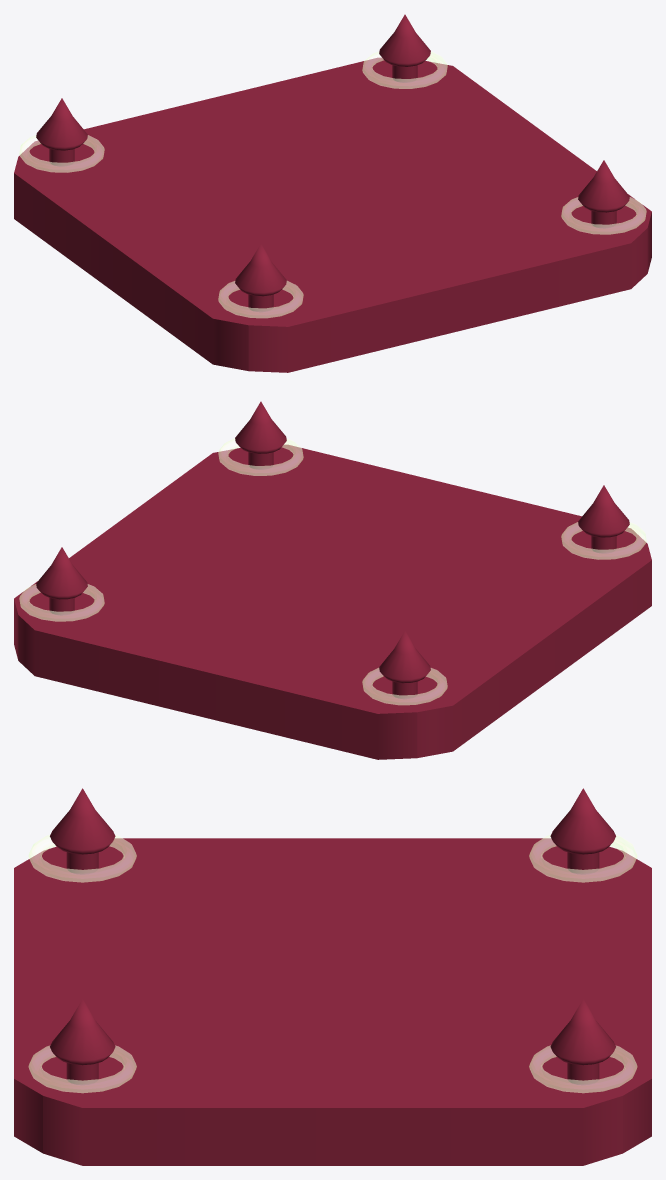
File: platformFloating.fbx
3 renders of one model, top to bottom at view 1: azimuth 30°, elevation 25°; view 2: azimuth 150°, elevation 25°; view 3: azimuth 270°, elevation 25°, orthographic. The views are drawn at different scales.
Parts seen in each view (by area): view 1: platformFloatBast, platformFloatPost3, platformFloatPost1, platformFloatPost, platformFloatPost2, platformFloatRing, platformFloatRing1, platformFloatRing2, platformFloatRing3; view 2: platformFloatBast, platformFloatPost, platformFloatPost2, platformFloatPost3, platformFloatPost1, platformFloatRing1, platformFloatRing3, platformFloatRing, platformFloatRing2; view 3: platformFloatBast, platformFloatPost, platformFloatPost1, platformFloatPost3, platformFloatPost2, platformFloatRing, platformFloatRing1, platformFloatRing3, platformFloatRing2.
Part boxes in pixels (x1,y1,x2,y2): platformFloatBast: [14, 57, 651, 372]; platformFloatPost3: [379, 14, 430, 82]; platformFloatPost1: [235, 244, 286, 312]; platformFloatPost: [36, 98, 87, 166]; platformFloatPost2: [578, 160, 629, 228]; platformFloatRing: [19, 135, 104, 172]; platformFloatRing1: [218, 281, 303, 318]; platformFloatRing2: [561, 197, 646, 234]; platformFloatRing3: [362, 51, 447, 88]; platformFloatBast: [14, 444, 651, 759]; platformFloatPost: [379, 631, 430, 699]; platformFloatPost2: [235, 401, 286, 469]; platformFloatPost3: [36, 547, 87, 615]; platformFloatPost1: [578, 485, 629, 553]; platformFloatRing1: [561, 522, 646, 559]; platformFloatRing3: [19, 584, 104, 621]; platformFloatRing: [362, 668, 447, 705]; platformFloatRing2: [218, 438, 303, 475]; platformFloatBast: [14, 838, 651, 1165]; platformFloatPost: [550, 788, 615, 874]; platformFloatPost1: [50, 788, 115, 874]; platformFloatPost3: [550, 999, 615, 1085]; platformFloatPost2: [50, 999, 115, 1085]; platformFloatRing: [529, 835, 637, 882]; platformFloatRing1: [28, 835, 136, 882]; platformFloatRing3: [529, 1045, 637, 1093]; platformFloatRing2: [28, 1045, 136, 1093].
Size of the model in its own units: 0.02 by 0.02 by 0.00477.
